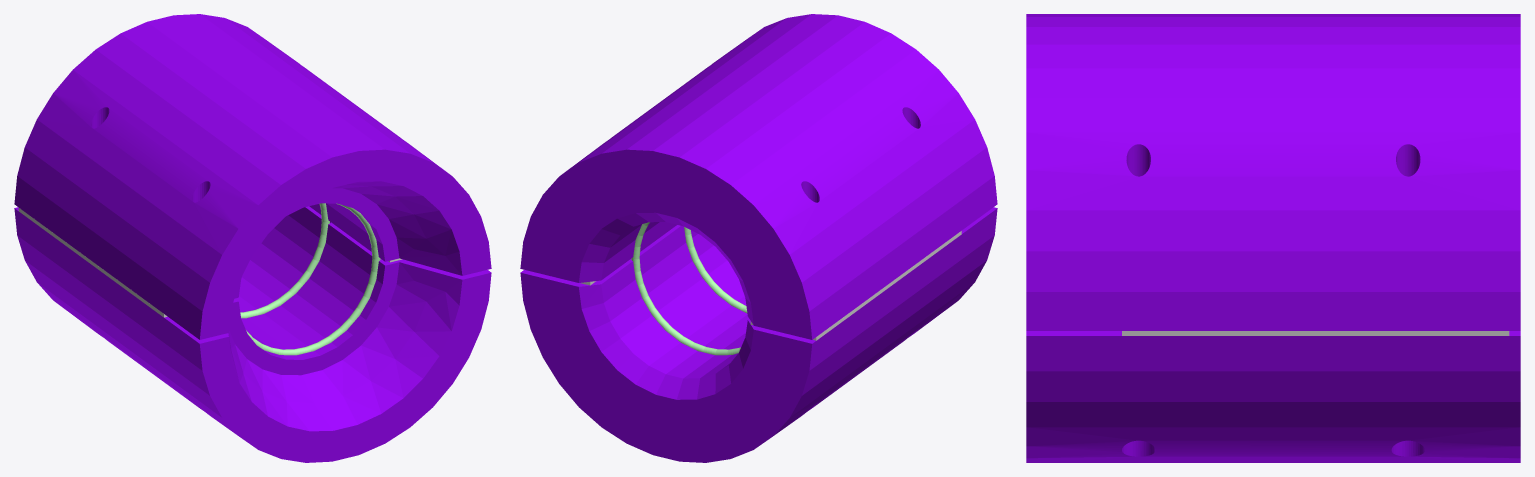
Rendered from Stroke Limiter Colors.glb.
3 renders of one model, left to right at view 1: azimuth 30°, elevation 25°; view 2: azimuth 150°, elevation 25°; view 3: azimuth 270°, elevation 25°, orthographic. The views are drawn at different scales.
Visible parts, largest first — view 1: b_Stroke_Limiter_Threaded_Half_001_.003, b_Stroke_Limiter_Cbore_Half_001_.003, Torus_001.003, b_Torus_002_001.003, b_Shim_001_001.003; view 2: b_Stroke_Limiter_Threaded_Half_001_.003, b_Stroke_Limiter_Cbore_Half_001_.003, b_Torus_002_.003, b_Torus_002_001.003, b_Shim_001_001.003; view 3: b_Stroke_Limiter_Threaded_Half_001_.003, b_Stroke_Limiter_Cbore_Half_001_.003, b_Shim_001_.003.
Boxes of the visible parts, x1,y1,x2,y2 form: b_Stroke_Limiter_Threaded_Half_001_.003: (14,14,491,339); b_Stroke_Limiter_Cbore_Half_001_.003: (14,206,491,462); Torus_001.003: (246,203,380,355); b_Torus_002_001.003: (240,203,329,318); b_Shim_001_001.003: (18,208,167,317); b_Stroke_Limiter_Threaded_Half_001_.003: (520,14,997,339); b_Stroke_Limiter_Cbore_Half_001_.003: (520,207,997,462); b_Torus_002_.003: (631,222,740,355); b_Torus_002_001.003: (684,227,747,313); b_Shim_001_001.003: (750,231,961,340); b_Stroke_Limiter_Threaded_Half_001_.003: (1026,14,1520,330); b_Stroke_Limiter_Cbore_Half_001_.003: (1026,331,1520,462); b_Shim_001_.003: (1122,331,1509,335).
Size of the model in its own units: 127 by 126 by 140.
